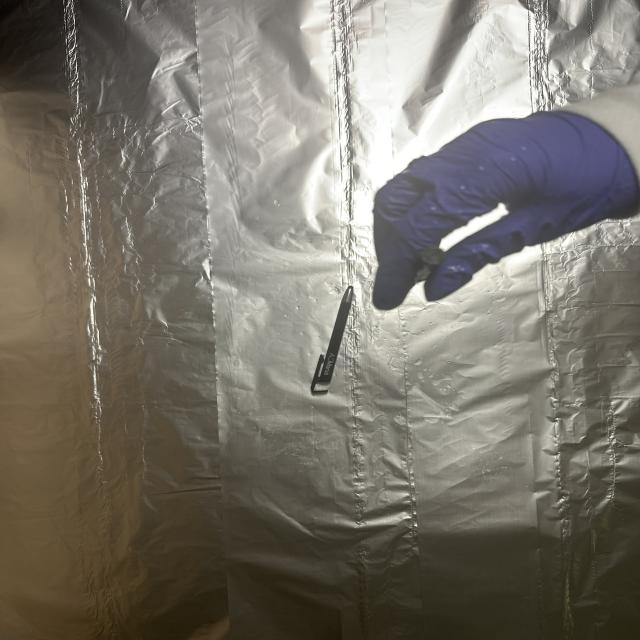gloves_contaminated: (373, 111, 640, 309)
